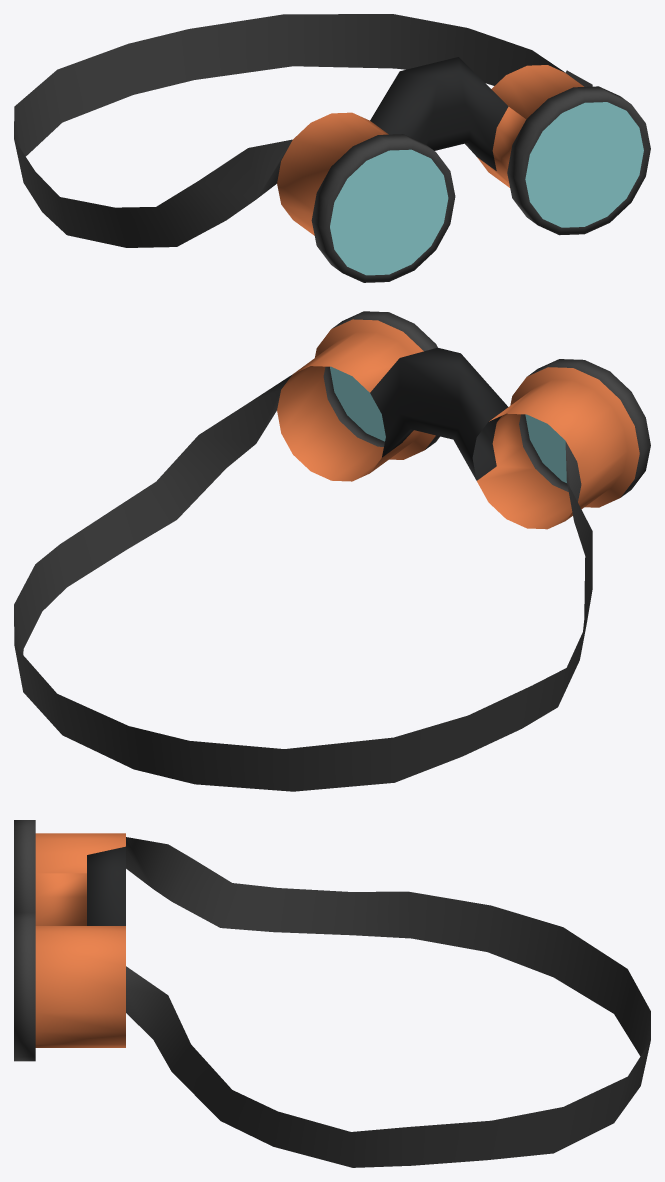
The model's file is Explorer.fbx.
3 renders of one model, top to bottom at view 1: azimuth 30°, elevation 25°; view 2: azimuth 150°, elevation 25°; view 3: azimuth 270°, elevation 25°, orthographic. The views are drawn at different scales.
Parts seen in each view (by area): view 1: бинокль; view 2: бинокль; view 3: бинокль.
Part boxes in pixels (x1=…): бинокль: x1=14, y1=14, x2=650, y2=282; бинокль: x1=14, y1=311, x2=650, y2=791; бинокль: x1=14, y1=820, x2=650, y2=1167.
Size of the model in its own units: 205 by 84.05 by 230.
